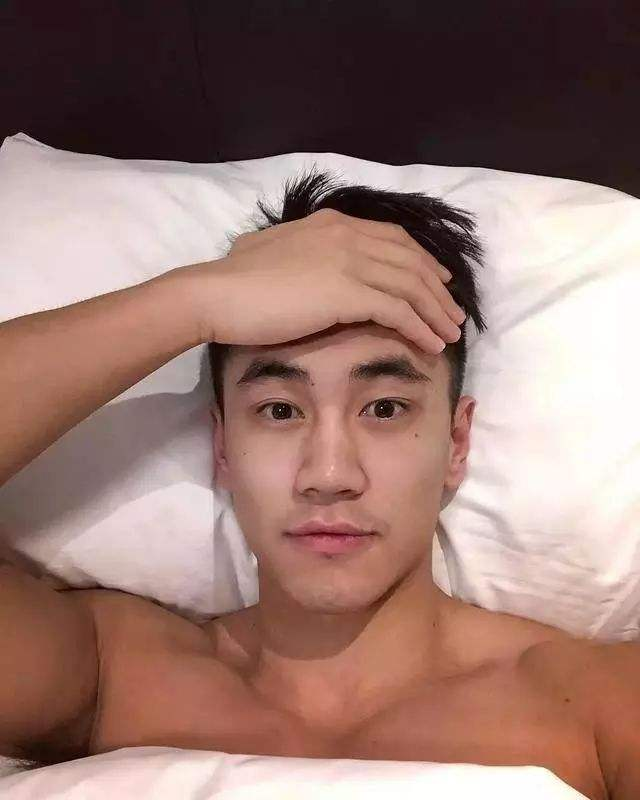person: (174, 162, 528, 800)
